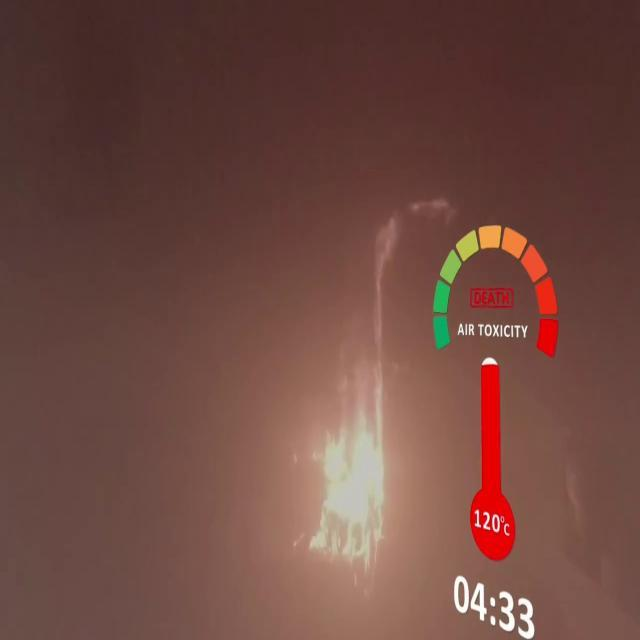Fire: (312, 411, 383, 565)
Smoke: (0, 0, 300, 640), (240, 0, 639, 232), (503, 336, 640, 640), (398, 350, 469, 628)
